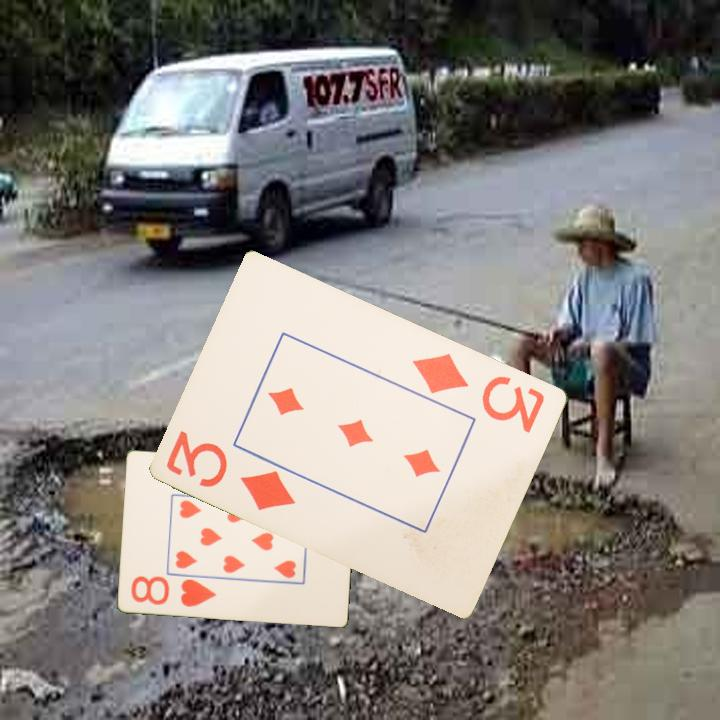3d: (409, 349, 548, 436), (163, 427, 299, 513)
8h: (127, 572, 219, 609)
